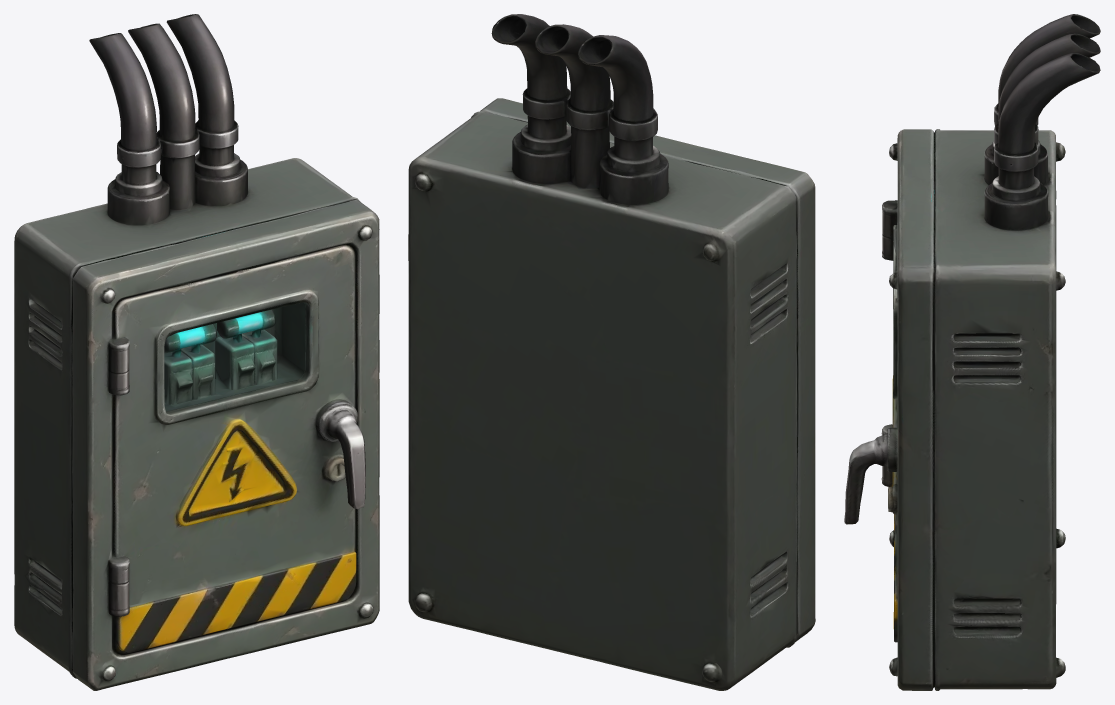
File: panel.glb
The picture shows the model from 3 angles, left to right: view 1: azimuth 30°, elevation 25°; view 2: azimuth 150°, elevation 25°; view 3: azimuth 270°, elevation 25°; orthographic projection. The views are drawn at different scales.
Parts seen in each view (by area): view 1: tripo_node_b761ebf7-b8c9-42c2-a764-41b1758a4661; view 2: tripo_node_b761ebf7-b8c9-42c2-a764-41b1758a4661; view 3: tripo_node_b761ebf7-b8c9-42c2-a764-41b1758a4661.
Part boxes in pixels (box(x1,y1,x2,y2)): tripo_node_b761ebf7-b8c9-42c2-a764-41b1758a4661: box(14, 14, 379, 690); tripo_node_b761ebf7-b8c9-42c2-a764-41b1758a4661: box(408, 14, 815, 690); tripo_node_b761ebf7-b8c9-42c2-a764-41b1758a4661: box(844, 14, 1100, 690).
Bounding box in the file's own units: 0.5357 × 1 × 0.3965.
Materials: 1 (1 with a texture image).
